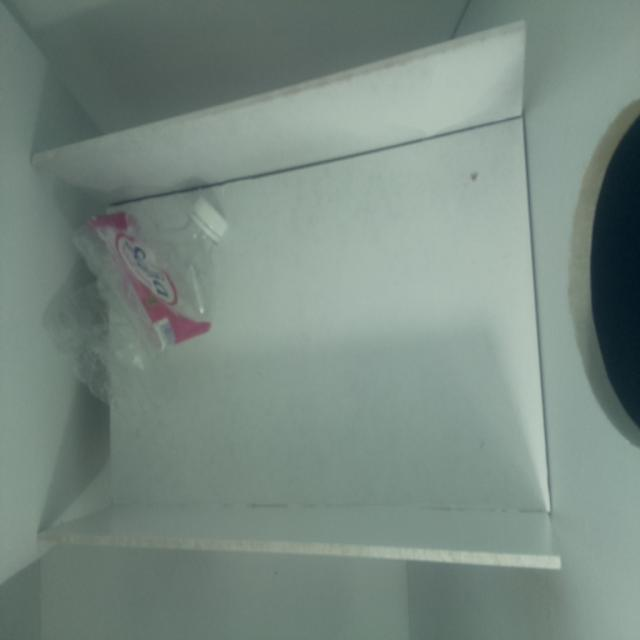Anorganik: (44, 192, 235, 410)
